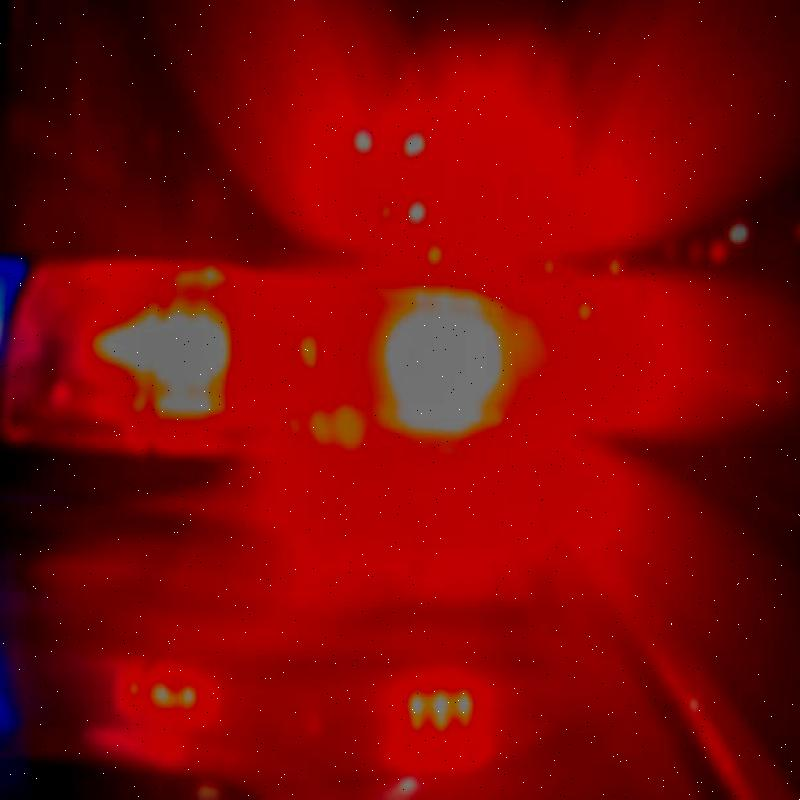AmbulanceSiren: (4, 242, 537, 478)
